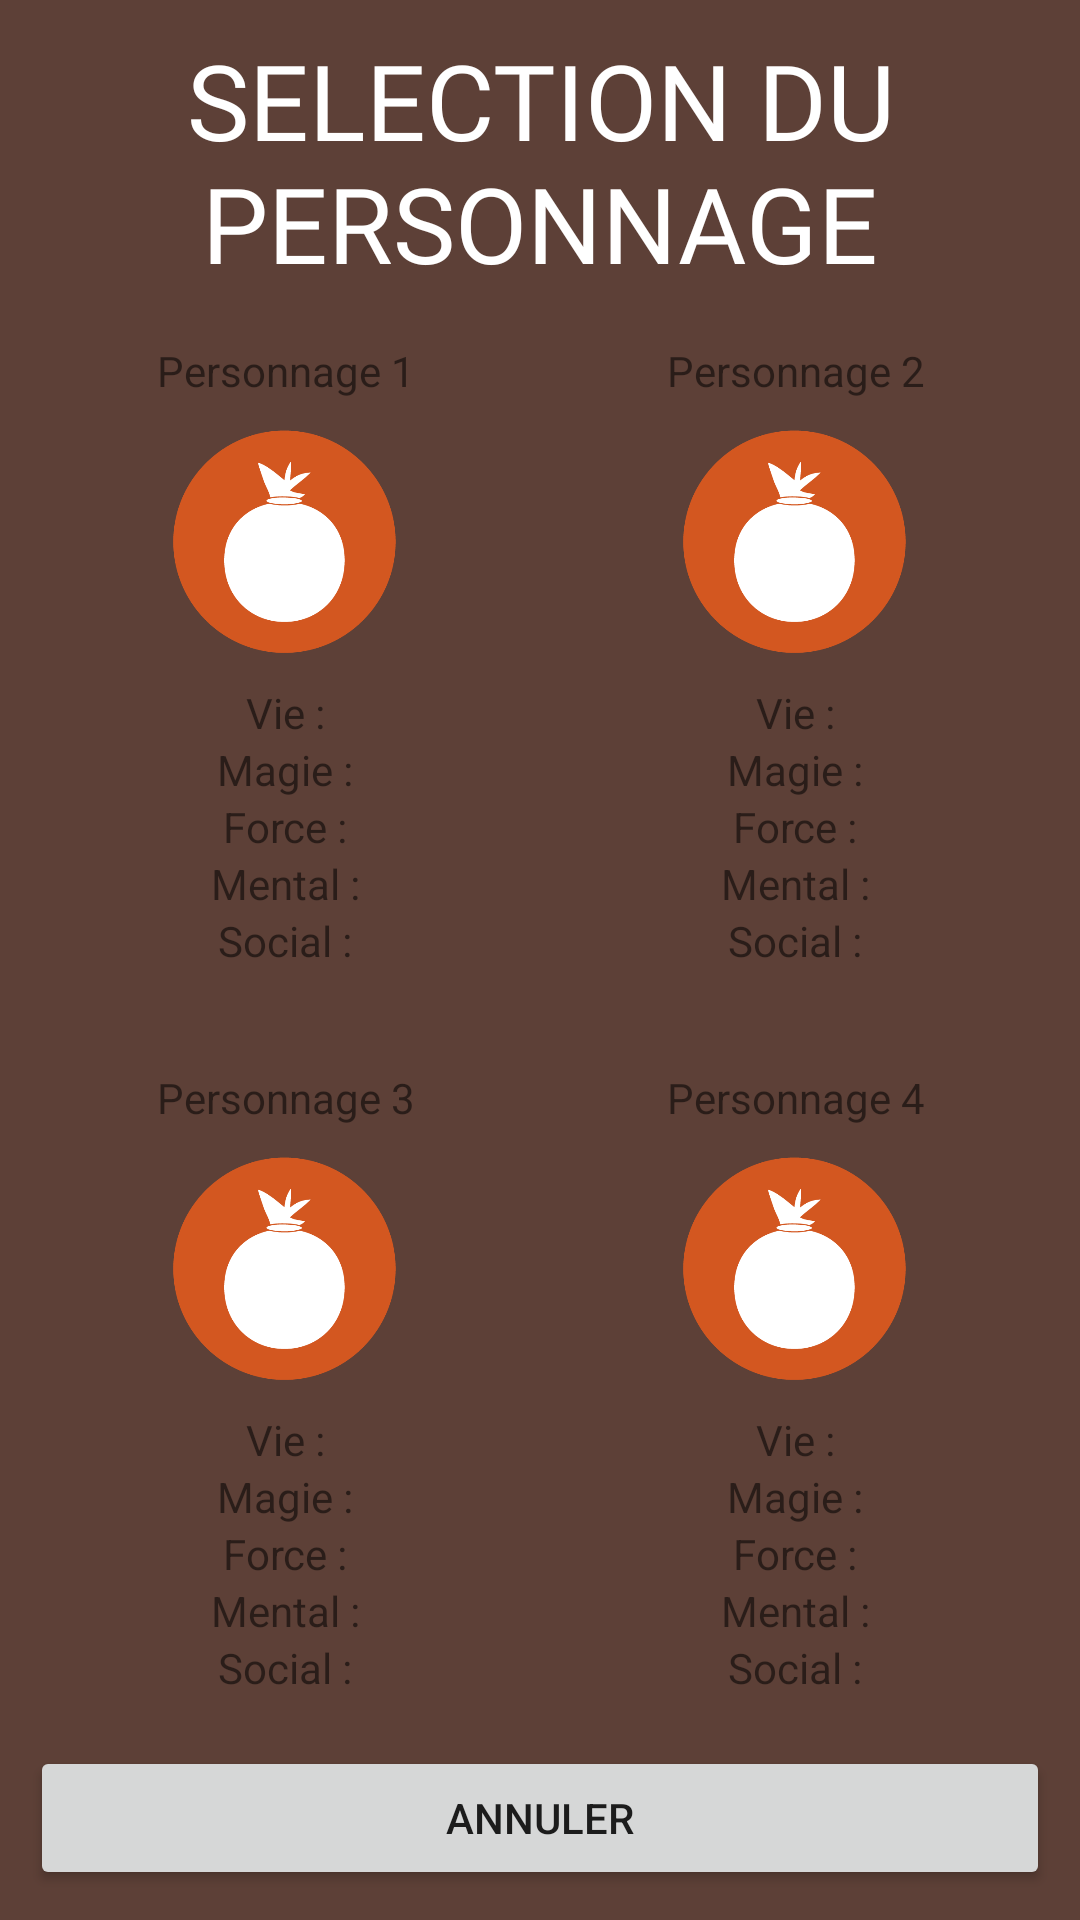

Point at icon controls on the screen. Image size 1080 x 1920, points as (x,y).
voleur: (284,541), (794,541), (284,1268), (794,1268)
